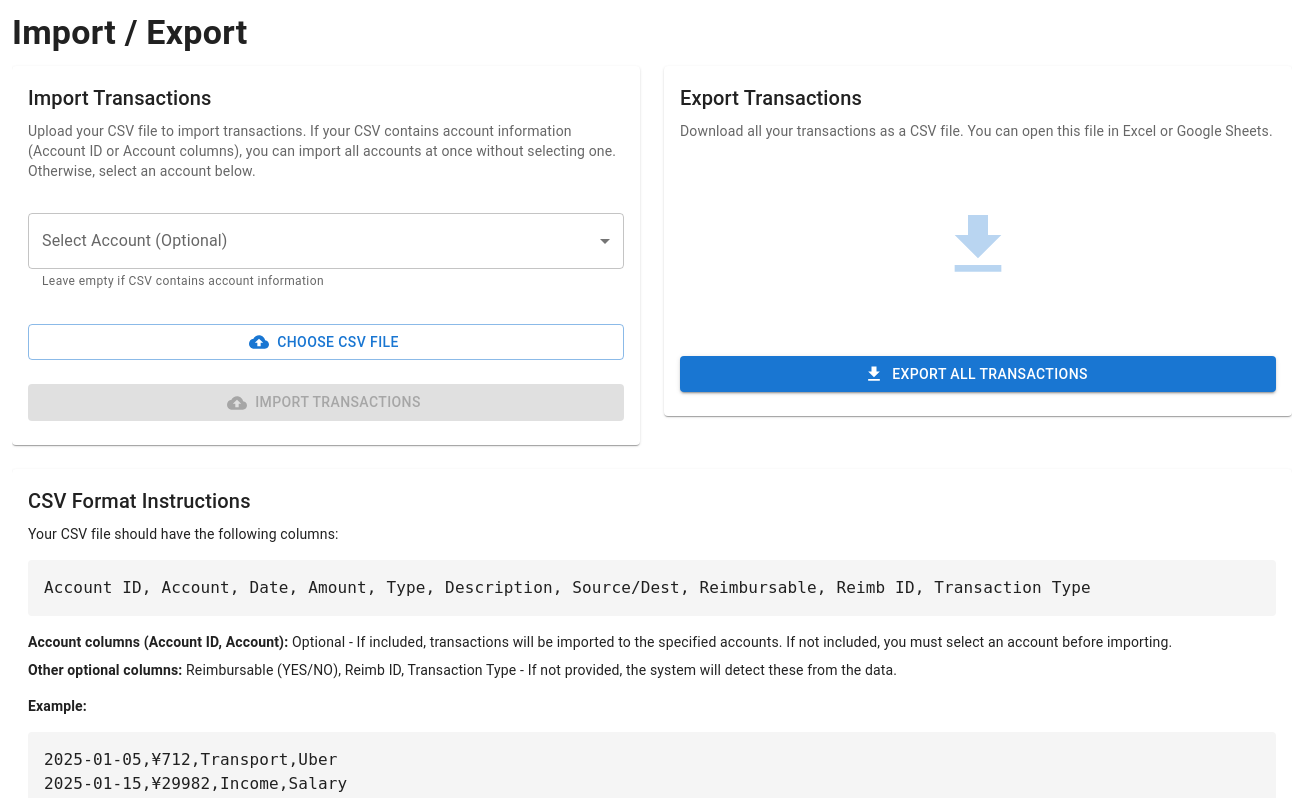
Test: Import › Account Loading › should not auto-select account by default
Note: Open the select dropdown to see the options
Press the mouse on the dropdown named "Select Account (Optional)" at (326, 241), box [28,213,624,269]
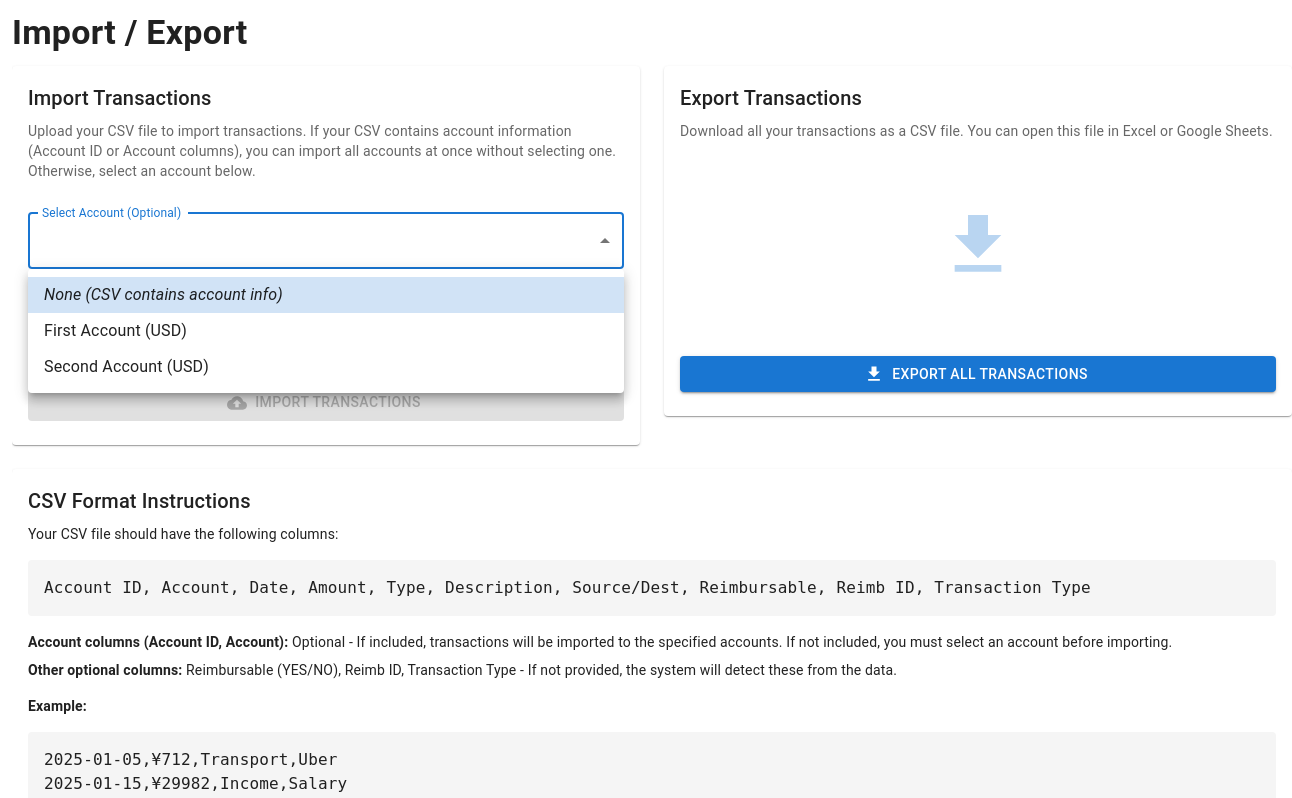
Now the option "None (CSV contains account info)" is shown, box [28,277,624,313]
